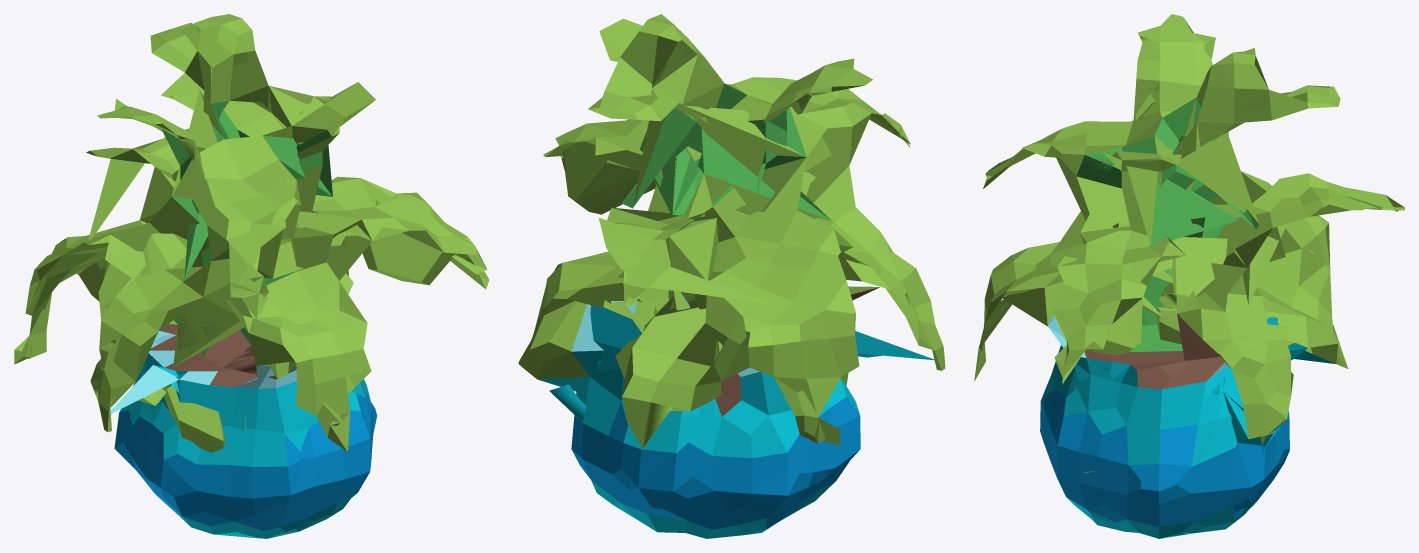
File: Pot Plant.fbx
The picture shows the model from 3 angles, left to right: view 1: azimuth 30°, elevation 25°; view 2: azimuth 150°, elevation 25°; view 3: azimuth 270°, elevation 25°; orthographic projection. The views are drawn at different scales.
Parts seen in each view (by area): view 1: Pot Plant, Pot Plant_cell.216, Pot Plant_cell.159, Pot Plant_cell.205, Pot Plant_cell.221, Pot Plant_cell.080, Pot Plant_cell.015, Pot Plant_cell.098, Pot Plant_cell.204; view 2: Pot Plant, Pot Plant_cell.293, Pot Plant_cell.216, Pot Plant_cell.224, Pot Plant_cell.108, Pot Plant_cell.222, Pot Plant_cell.221, Pot Plant_cell.316, Pot Plant_cell.010, Pot Plant_cell.073, Pot Plant_cell.182, Pot Plant_cell.305 (+1 smaller); view 3: Pot Plant, Pot Plant_cell.169, Pot Plant_cell.216, Pot Plant_cell.204, Pot Plant_cell.088, Pot Plant_cell.264, Pot Plant_cell.316, Pot Plant_cell.011, Pot Plant_cell.143, Pot Plant_cell.315, Pot Plant_cell.097, Pot Plant_cell.222 (+2 smaller).
Boxes of the visible parts, x1,y1,x2,y2 form: Pot Plant: (14, 19, 489, 538); Pot Plant_cell.216: (362, 200, 463, 285); Pot Plant_cell.159: (162, 360, 224, 452); Pot Plant_cell.205: (215, 356, 257, 441); Pot Plant_cell.221: (131, 422, 179, 493); Pot Plant_cell.080: (199, 327, 251, 363); Pot Plant_cell.015: (102, 282, 165, 313); Pot Plant_cell.098: (248, 502, 332, 533); Pot Plant_cell.204: (348, 384, 371, 446); Pot Plant: (518, 14, 945, 538); Pot Plant_cell.293: (630, 454, 738, 524); Pot Plant_cell.216: (562, 121, 656, 214); Pot Plant_cell.224: (715, 394, 798, 494); Pot Plant_cell.108: (736, 459, 826, 535); Pot Plant_cell.222: (589, 423, 638, 504); Pot Plant_cell.221: (809, 401, 860, 474); Pot Plant_cell.316: (614, 17, 689, 83); Pot Plant_cell.010: (634, 395, 673, 448); Pot Plant_cell.073: (632, 508, 732, 538); Pot Plant_cell.182: (696, 399, 726, 476); Pot Plant_cell.305: (549, 384, 590, 427); Pot Plant: (974, 14, 1404, 538); Pot Plant_cell.169: (1127, 394, 1222, 492); Pot Plant_cell.216: (1064, 265, 1142, 354); Pot Plant_cell.204: (1058, 386, 1118, 470); Pot Plant_cell.088: (1080, 470, 1142, 523); Pot Plant_cell.264: (1219, 334, 1269, 404); Pot Plant_cell.316: (1220, 52, 1269, 109); Pot Plant_cell.011: (1110, 357, 1191, 429); Pot Plant_cell.143: (1136, 36, 1186, 91); Pot Plant_cell.315: (1143, 485, 1233, 536); Pot Plant_cell.097: (1155, 306, 1181, 344); Pot Plant_cell.222: (1256, 426, 1288, 500).
Bounding box in the file's own units: 55.92 × 66.86 × 57.32.
